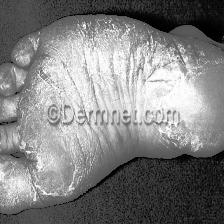Non-Cancerous Skin Condition: (48, 36, 194, 105), (0, 158, 76, 200), (9, 78, 45, 142)
